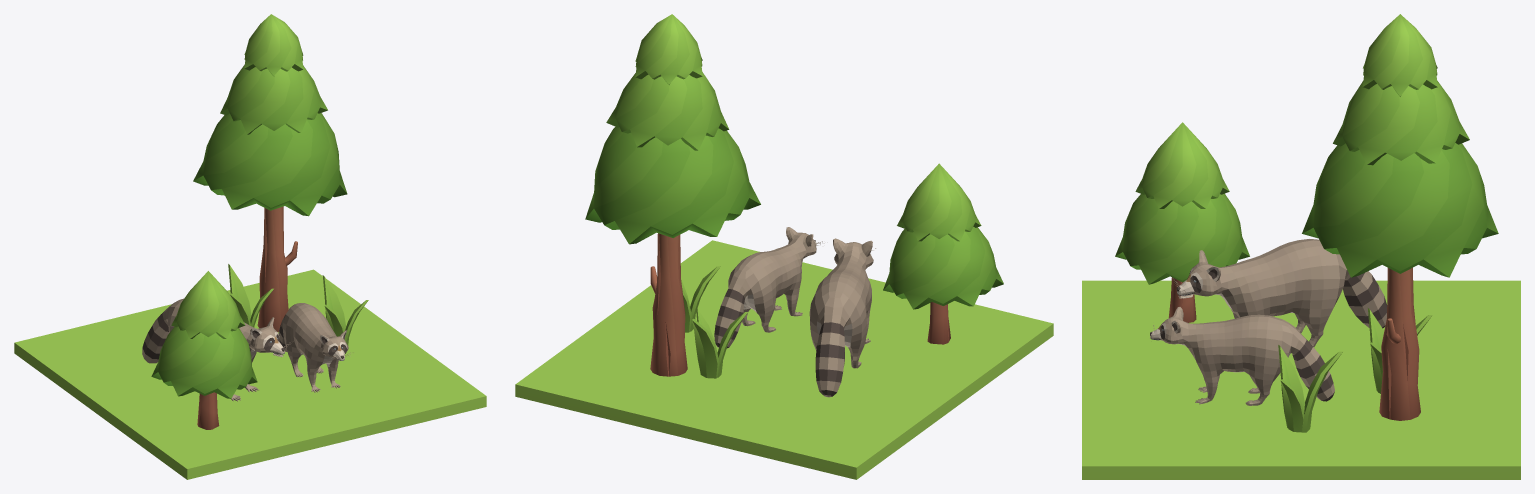
The model's file is raccoon_family.glb.
The picture shows the model from 3 angles, left to right: view 1: azimuth 30°, elevation 25°; view 2: azimuth 150°, elevation 25°; view 3: azimuth 270°, elevation 25°; orthographic projection. The views are drawn at different scales.
Visible parts, largest first — view 1: Raccoon Family; view 2: Raccoon Family; view 3: Raccoon Family.
Boxes of the visible parts, left/top/right/bottom form: Raccoon Family: left=14, top=14, right=486, bottom=479; Raccoon Family: left=515, top=14, right=1053, bottom=479; Raccoon Family: left=1082, top=14, right=1520, bottom=479.
Size of the model in its own units: 0.29 by 0.3046 by 0.29.
1 material, 1 textured.
